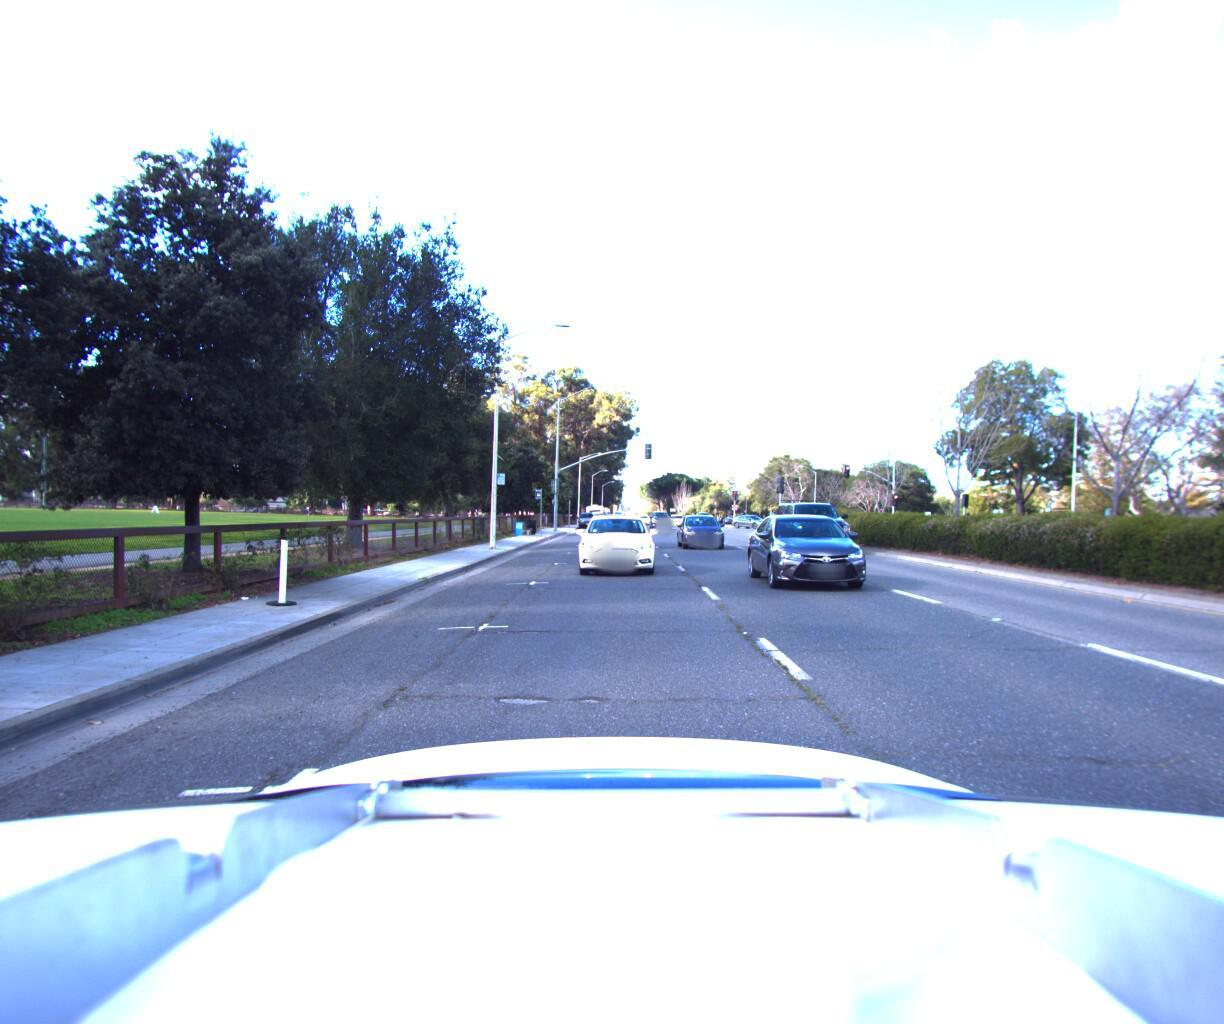car: (749, 502, 899, 597), (571, 506, 666, 575), (770, 491, 859, 553), (676, 510, 735, 549), (728, 508, 784, 530), (649, 509, 672, 527), (573, 508, 595, 525)
